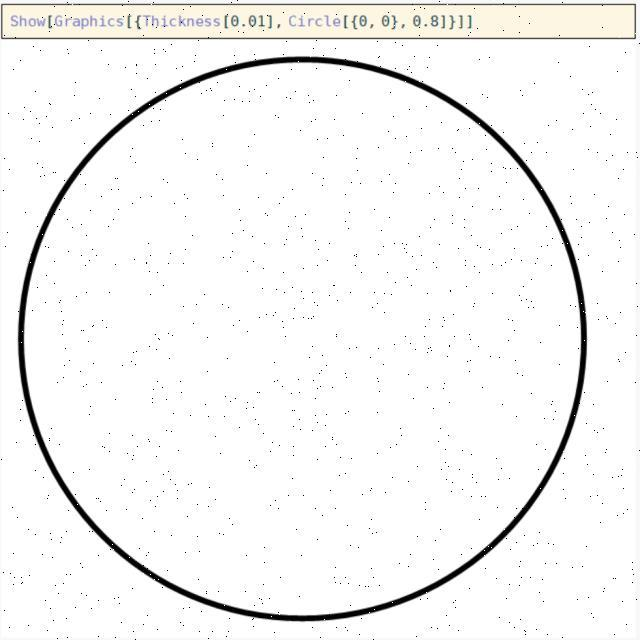Circle: (25, 64, 579, 613)
